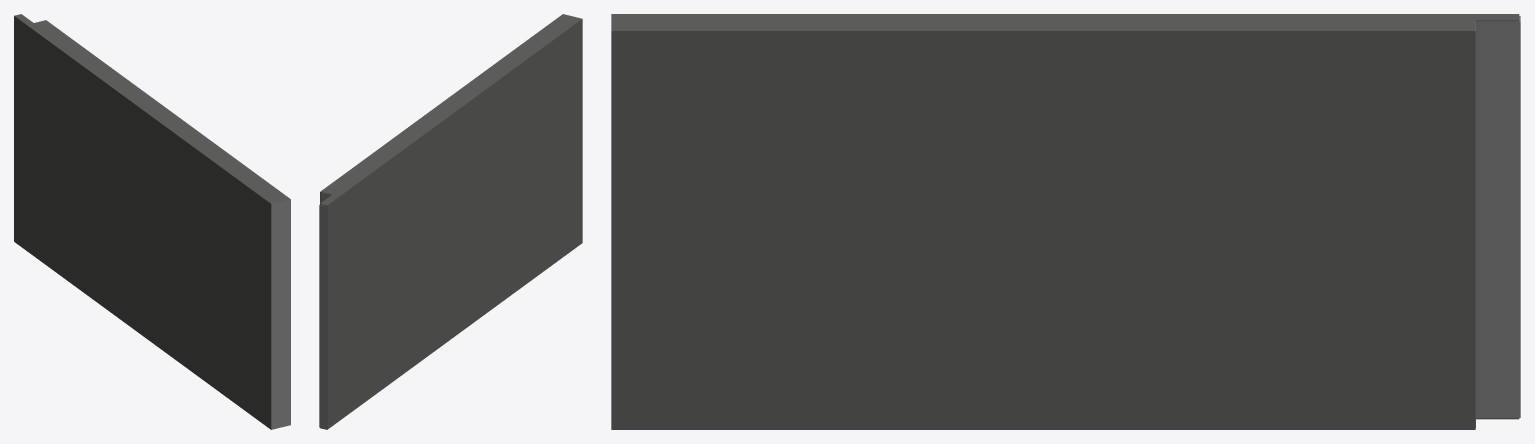
File: mv-boxcover-350-p.glb
3 renders of one model, left to right at view 1: azimuth 30°, elevation 25°; view 2: azimuth 150°, elevation 25°; view 3: azimuth 270°, elevation 25°, orthographic. The views are drawn at different scales.
Visible parts, largest first — view 1: geometry_0; view 2: geometry_0; view 3: geometry_0.
Boxes of the visible parts, box(x1,y1,x2,y2) form: geometry_0: box(14, 14, 290, 429); geometry_0: box(319, 14, 582, 429); geometry_0: box(611, 14, 1520, 429).
Size of the model in its own units: 0.015 by 0.165 by 0.3407.
1 material, 1 textured.
